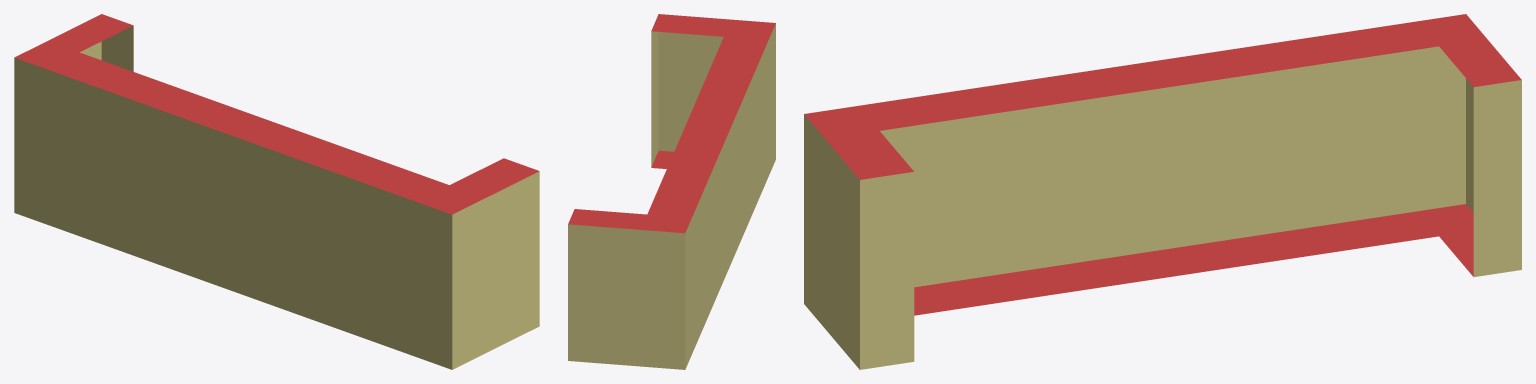
The picture shows the model from 3 angles, left to right: view 1: azimuth 30°, elevation 25°; view 2: azimuth 150°, elevation 25°; view 3: azimuth 270°, elevation 25°; orthographic projection. The views are drawn at different scales.
Bounding box in the file's own units: 16.43 × 30.02 × 8.77.
